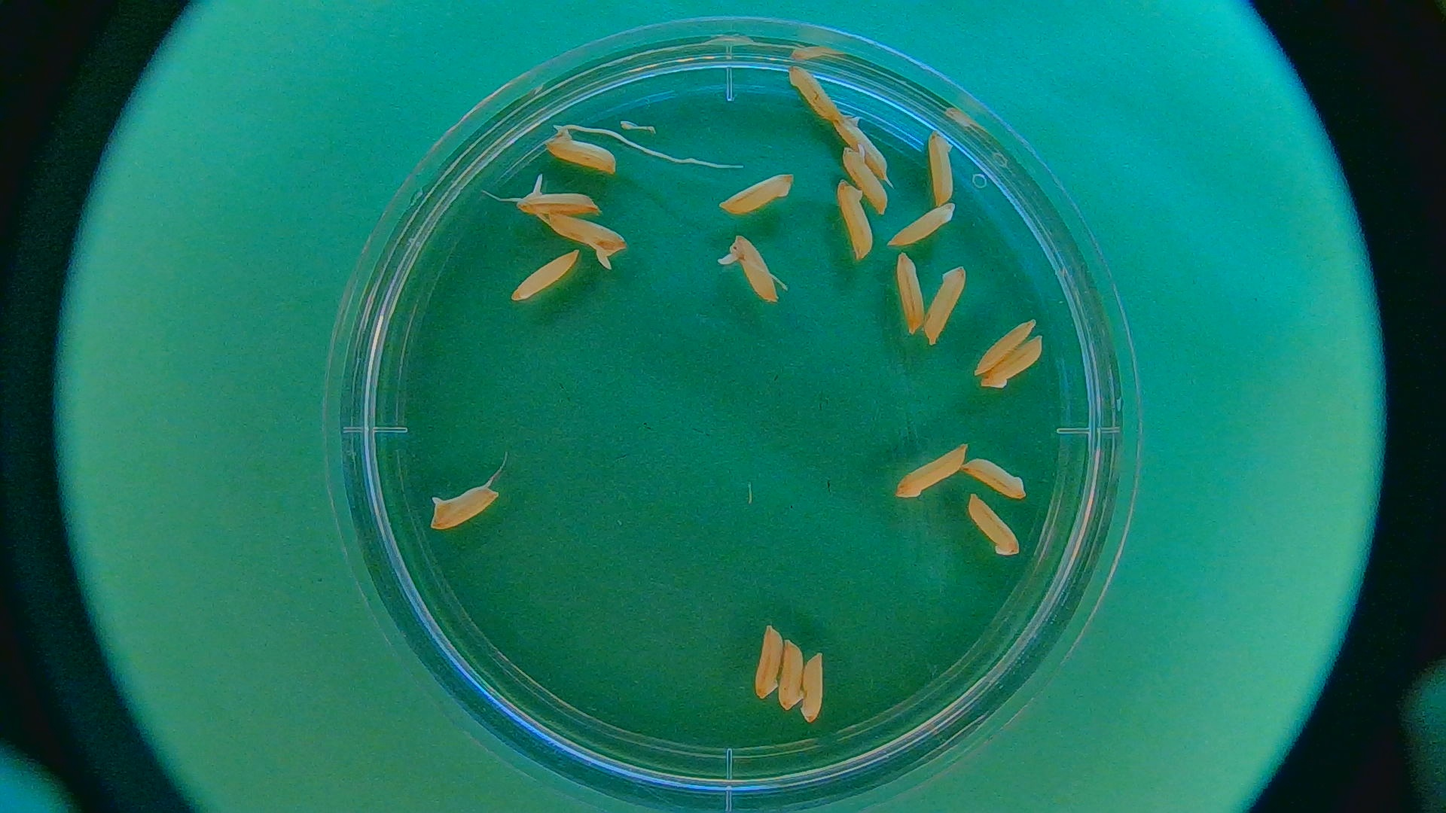no: (832, 108, 890, 181), (891, 446, 965, 500), (979, 336, 1045, 392), (921, 267, 967, 343), (511, 250, 579, 301), (721, 170, 798, 215), (977, 317, 1036, 375), (969, 493, 1020, 558), (785, 63, 840, 122), (429, 485, 499, 531), (888, 204, 958, 247), (836, 181, 874, 257), (894, 251, 926, 333), (752, 626, 787, 700), (927, 126, 956, 204), (967, 460, 1023, 498), (777, 638, 804, 709), (801, 653, 827, 722)
yes: (538, 214, 627, 257), (841, 142, 891, 212), (732, 233, 781, 303), (542, 133, 618, 176), (518, 187, 601, 217)
